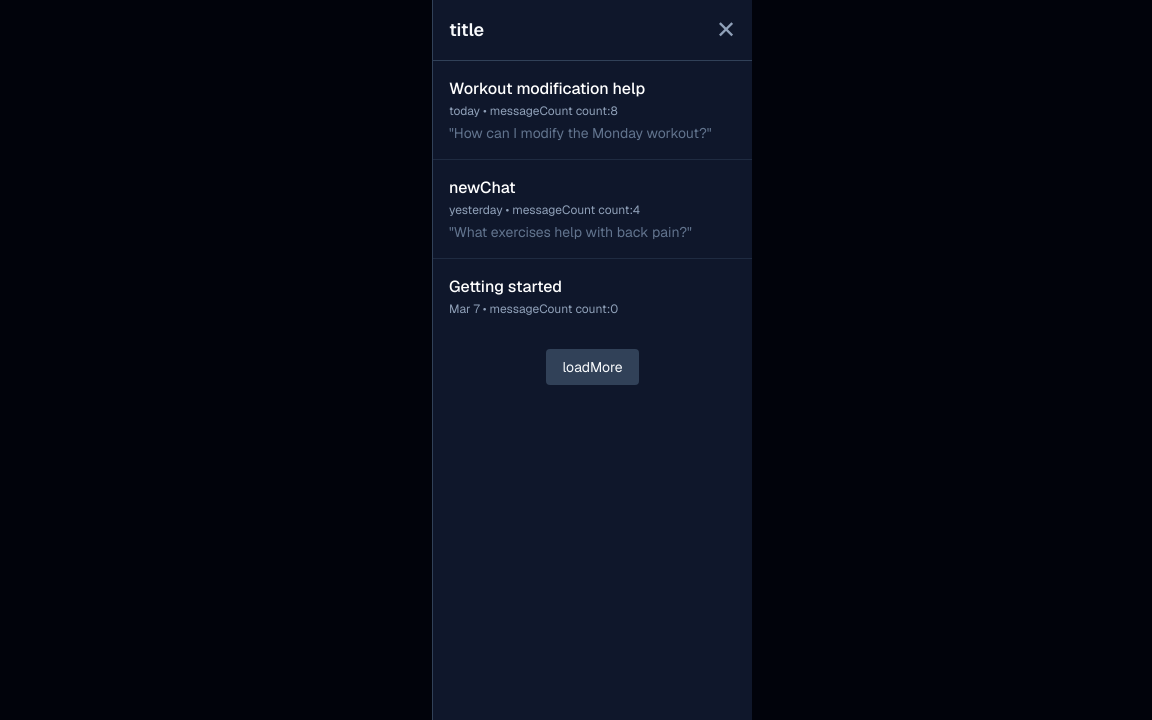
ChatHistory › pagination › fetches more sessions when Load More is clicked
This screenshot has width=1152, height=720.
Click the button "loadMore": (592, 367) x1=546 y1=349 x2=638 y2=385
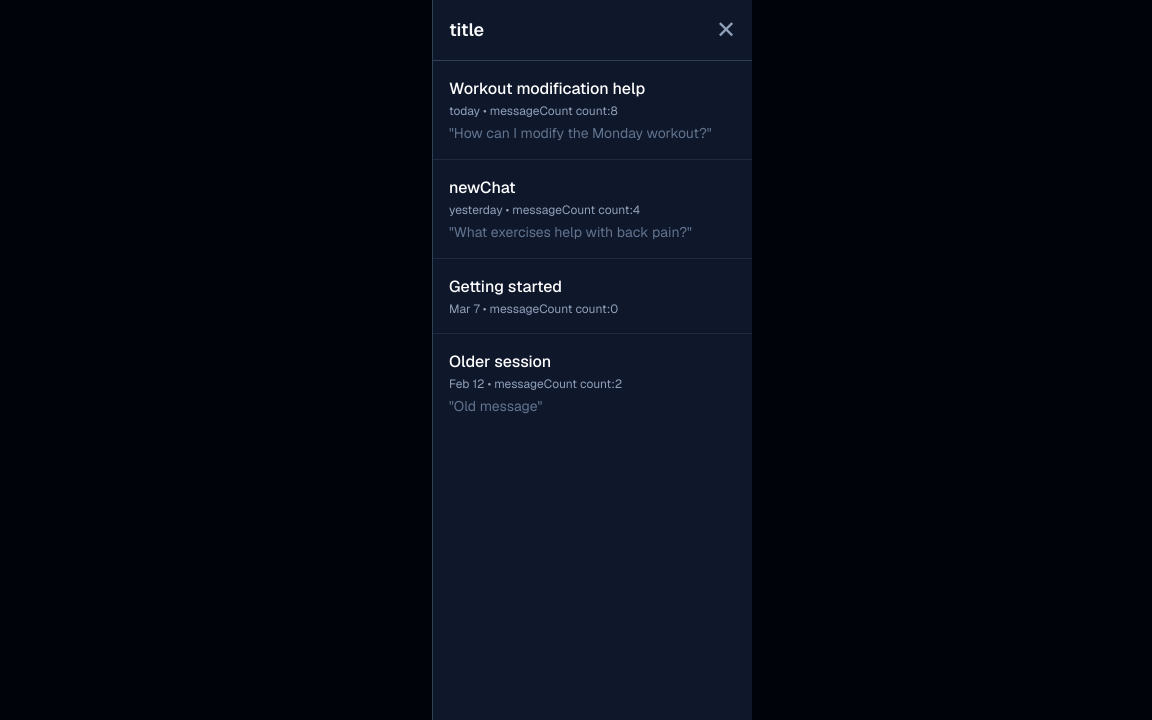
Expected: the heading "Older session" is shown, x1=449 y1=351 x2=551 y2=372
